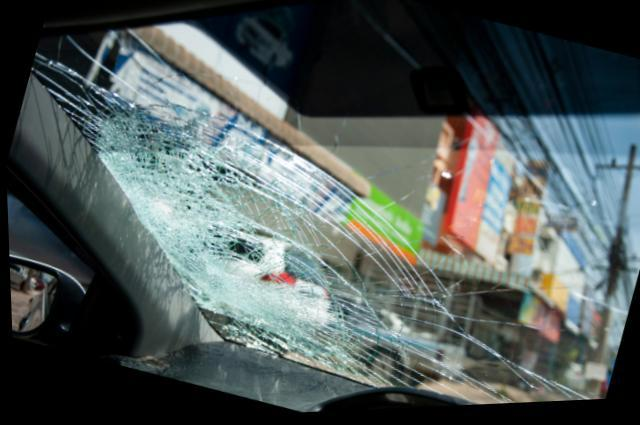glass shatter: (30, 0, 640, 409)
